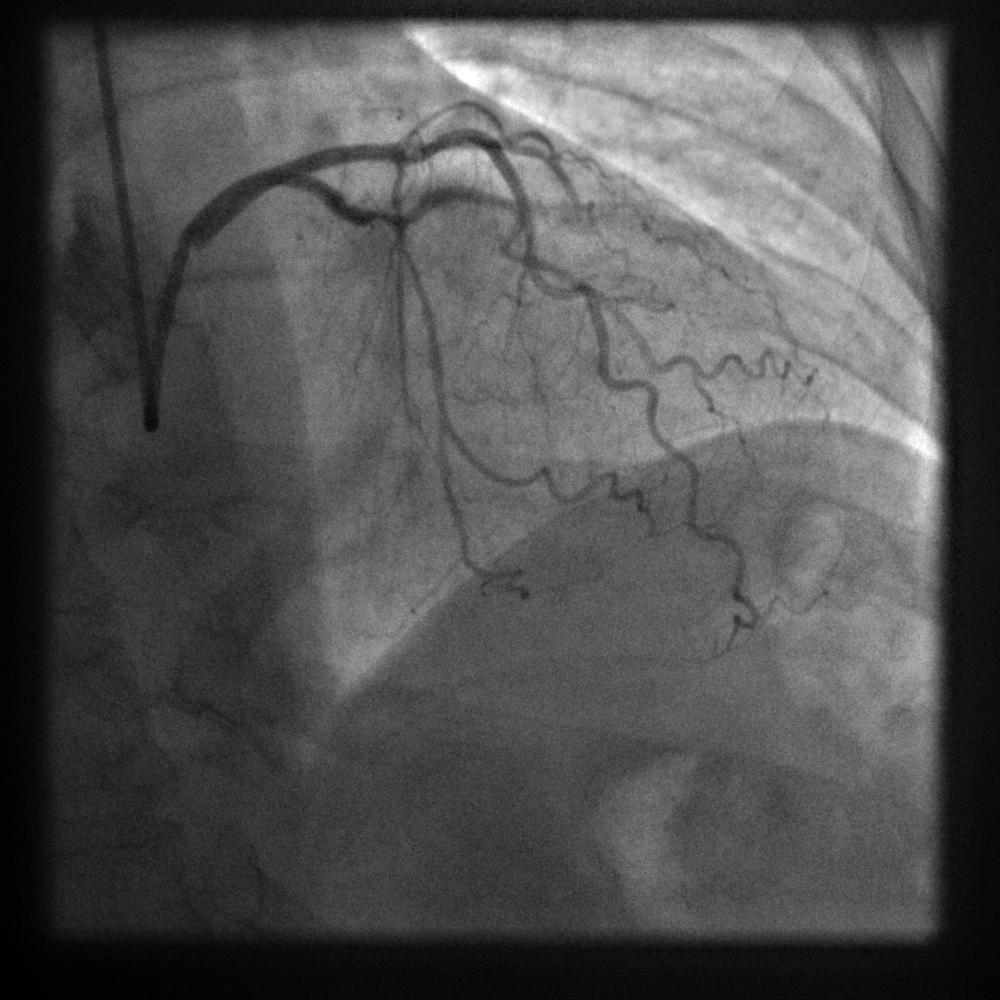Stenosis: (332, 200, 422, 231)
